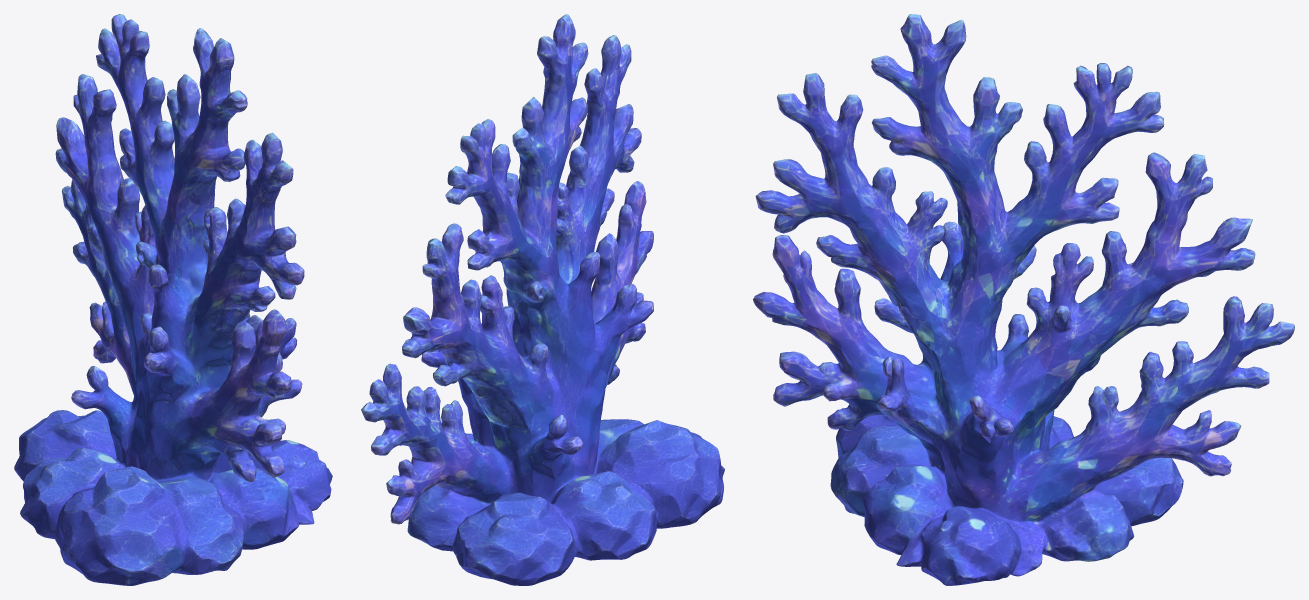
Rendered from coral.glb.
3 renders of one model, left to right at view 1: azimuth 30°, elevation 25°; view 2: azimuth 150°, elevation 25°; view 3: azimuth 270°, elevation 25°, orthographic. The views are drawn at different scales.
Visible parts, largest first — view 1: tripo_node_8fb9ddb2-ae29-4acc-b728-41800cfd1b63; view 2: tripo_node_8fb9ddb2-ae29-4acc-b728-41800cfd1b63; view 3: tripo_node_8fb9ddb2-ae29-4acc-b728-41800cfd1b63.
Part boxes in pixels (x1,y1,x2,y2): tripo_node_8fb9ddb2-ae29-4acc-b728-41800cfd1b63: [14, 14, 332, 585]; tripo_node_8fb9ddb2-ae29-4acc-b728-41800cfd1b63: [361, 14, 724, 585]; tripo_node_8fb9ddb2-ae29-4acc-b728-41800cfd1b63: [753, 14, 1294, 585].
Size of the model in its own units: 0.5948 by 0.9802 by 0.9337.
Materials: 1 (1 with a texture image).
